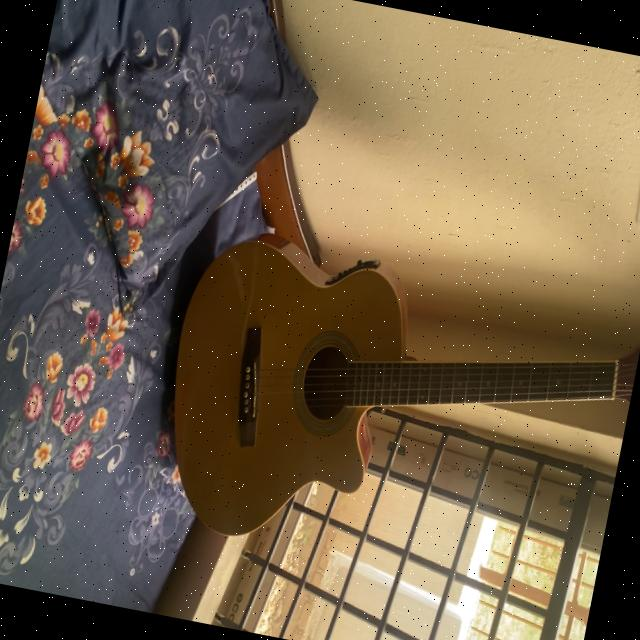guitar: (131, 210, 640, 632)
